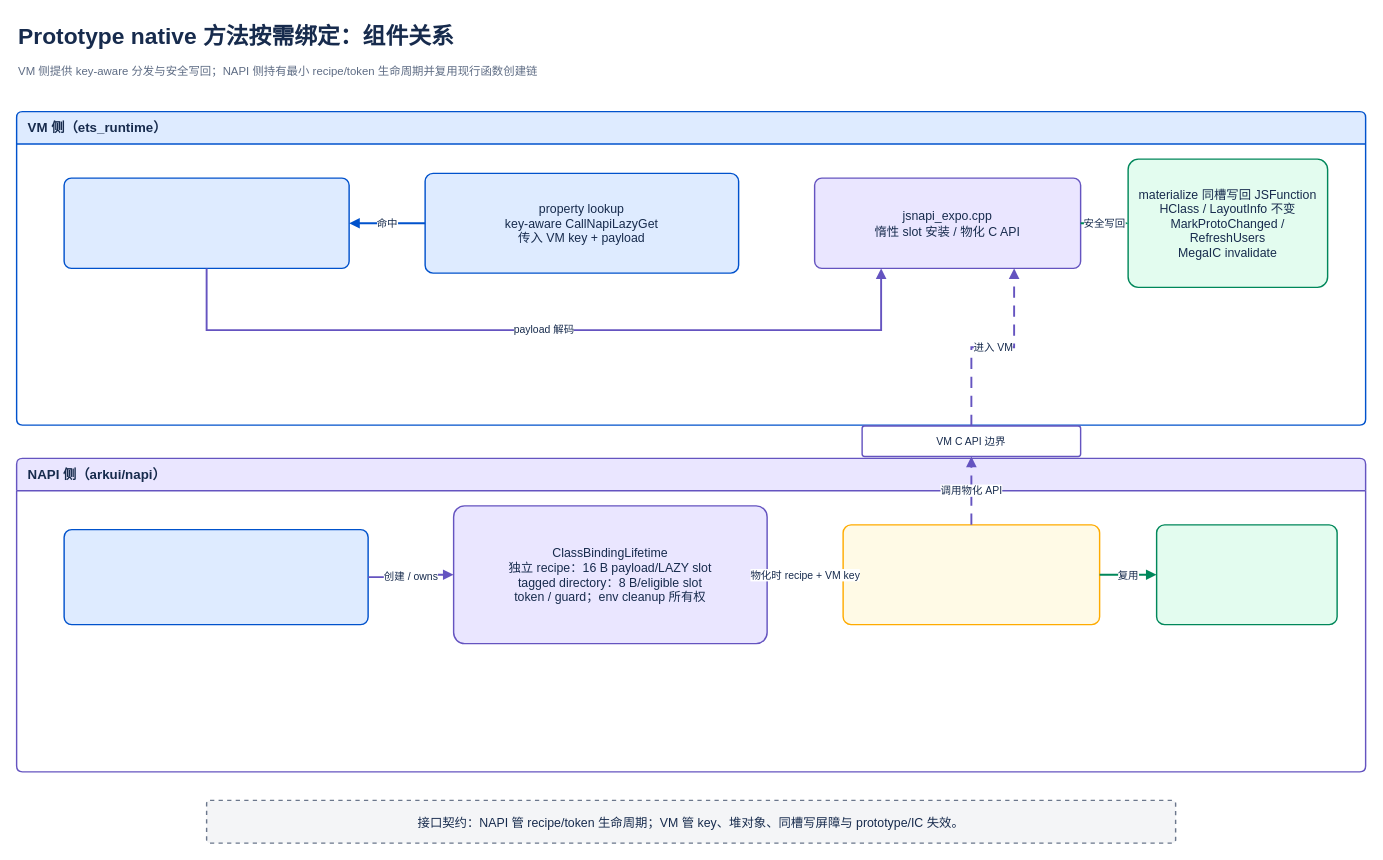
This 1383x860 diagram has some shape labels left out. Each missing label, with the box of its shape:
accessor_data.h NapiLazyAccessor read / write entry token + recipe index payload: (63, 177, 349, 269)
ark_native_engine.cpp NapiDefineClass：目标 prototype method 安装惰性槽 其他属性走即时创建路径: (63, 528, 368, 625)
NapiLazyGet guard -> recipe[index] 使用当前 VM key 重建函数名: (842, 524, 1100, 625)
现行创建链 NapiCreateClassFunction / NapiNativeCreateFunction: (1155, 524, 1337, 625)
